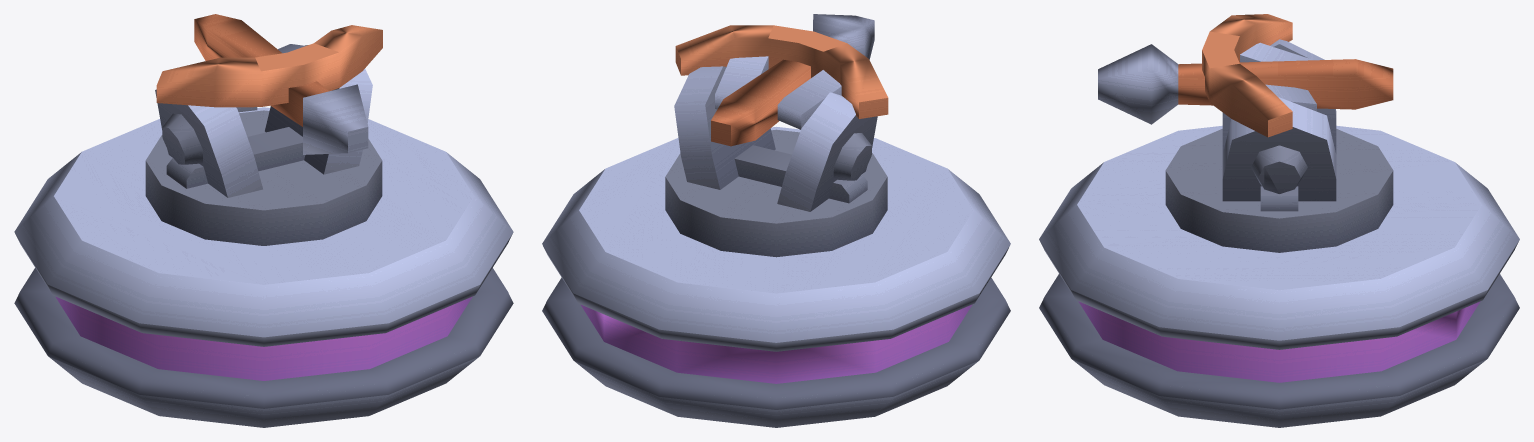
The model's file is enemy-ufo-d-weapon.glb.
3 views of the same model, side by side, from view 1: azimuth 30°, elevation 25°; view 2: azimuth 150°, elevation 25°; view 3: azimuth 270°, elevation 25° (orthographic). The views are drawn at different scales.
Visible parts, largest first — view 1: enemy-ufo-d-weapon, arrow; view 2: enemy-ufo-d-weapon, arrow; view 3: enemy-ufo-d-weapon, arrow.
Boxes of the visible parts, x1,y1,x2,y2 form: enemy-ufo-d-weapon: [14, 45, 513, 427]; arrow: [156, 14, 382, 154]; enemy-ufo-d-weapon: [542, 66, 1010, 427]; arrow: [675, 14, 888, 146]; enemy-ufo-d-weapon: [1039, 39, 1519, 427]; arrow: [1098, 14, 1393, 137].
Bounding box in the file's own units: 0.9494 × 0.6375 × 0.95.
1 material, 1 textured.
